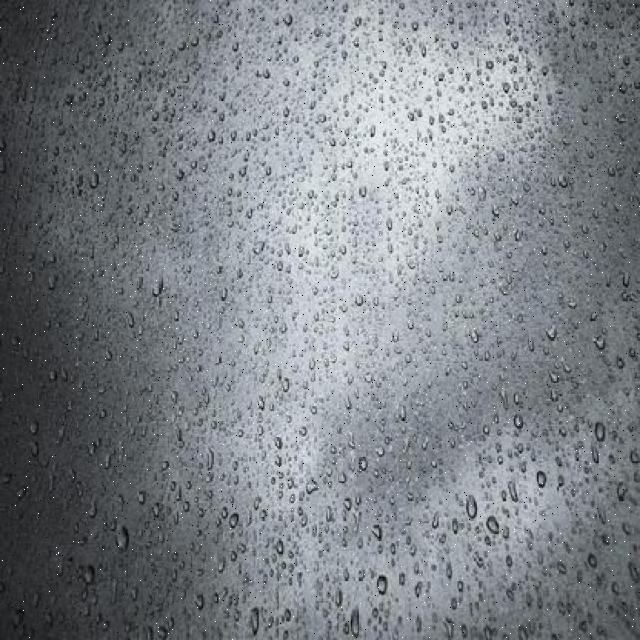raindrop: (578, 416, 622, 460), (109, 518, 150, 564), (494, 478, 536, 522), (388, 12, 426, 60), (132, 280, 174, 316), (438, 34, 472, 76), (451, 487, 486, 527), (592, 337, 628, 372), (572, 544, 614, 574), (346, 294, 383, 328), (536, 314, 570, 351), (458, 324, 491, 362), (498, 404, 534, 438), (223, 510, 251, 548), (238, 608, 270, 640), (530, 463, 562, 492), (36, 266, 66, 296), (341, 600, 364, 638), (482, 60, 510, 91), (484, 509, 508, 544), (364, 524, 396, 550), (371, 570, 392, 606), (619, 514, 640, 550)
